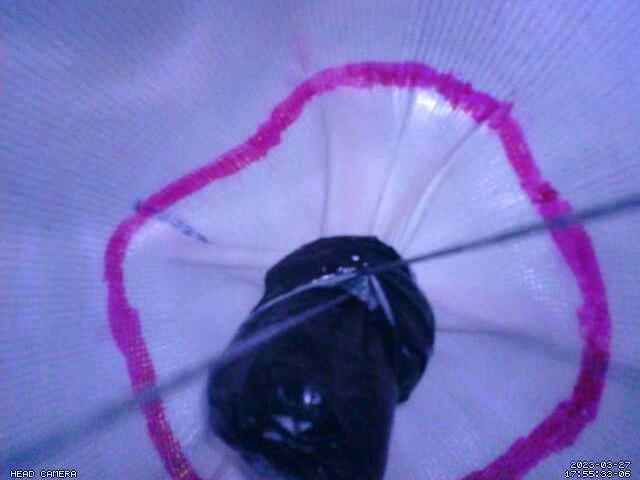red-circle: (104, 59, 613, 480)
